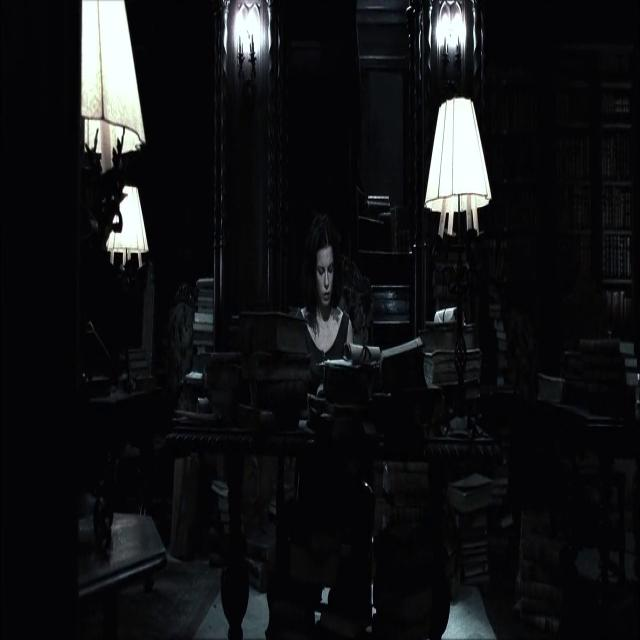People: (296, 211, 344, 418)
Table: (185, 387, 465, 640), (49, 477, 166, 640)
